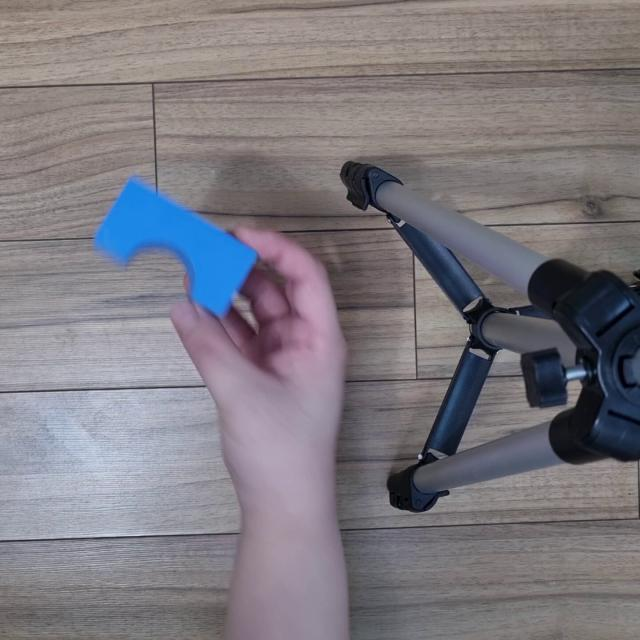block: (88, 173, 262, 324)
hand: (172, 218, 370, 488)
